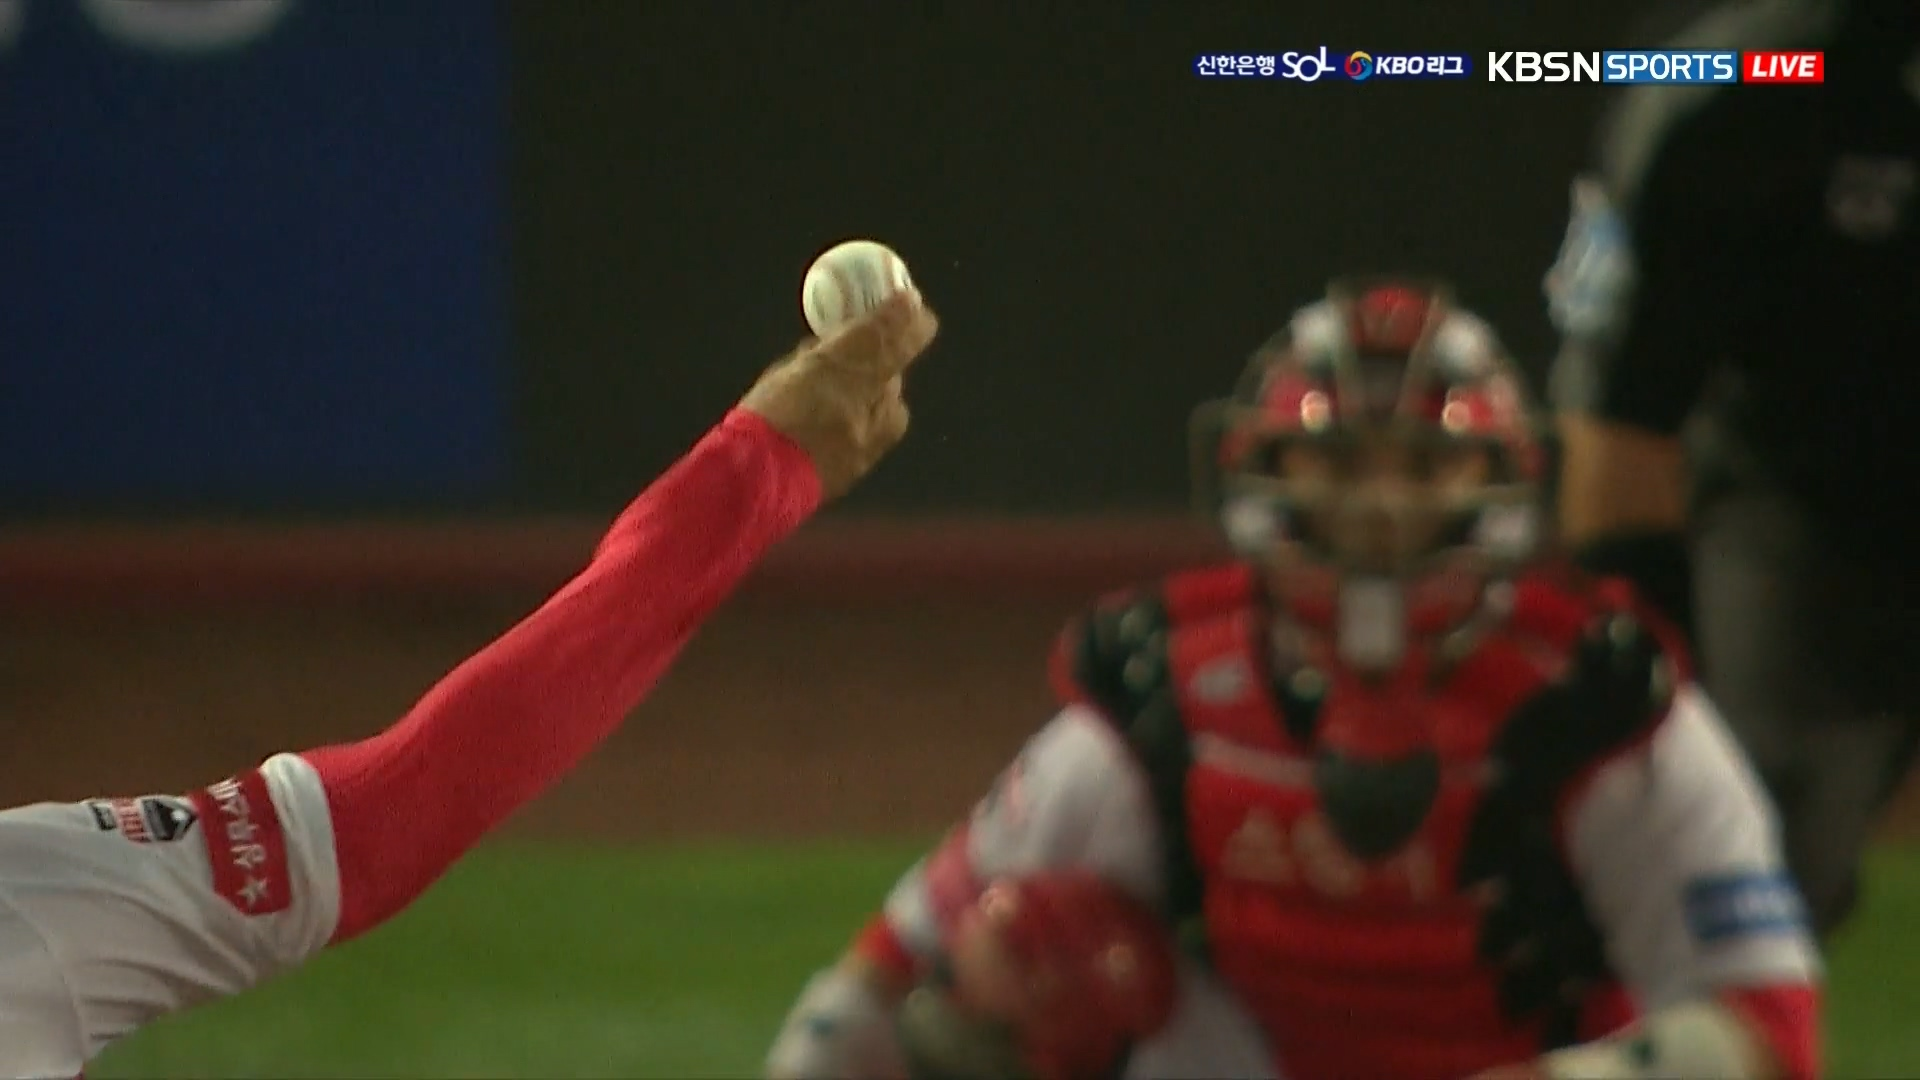zoomin_hand: (351, 235, 957, 942)
